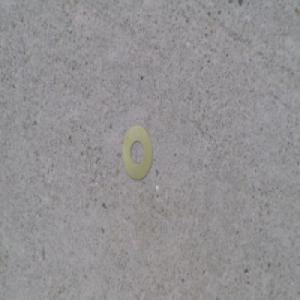Washer: (122, 124, 154, 182)
